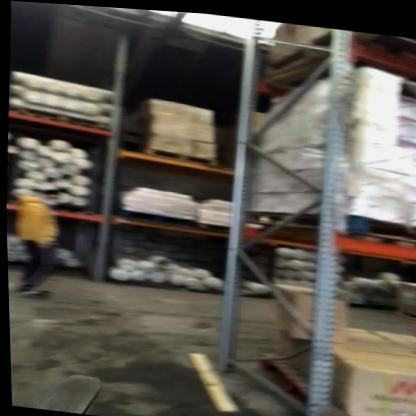vertical_damage: (303, 333, 346, 380)
